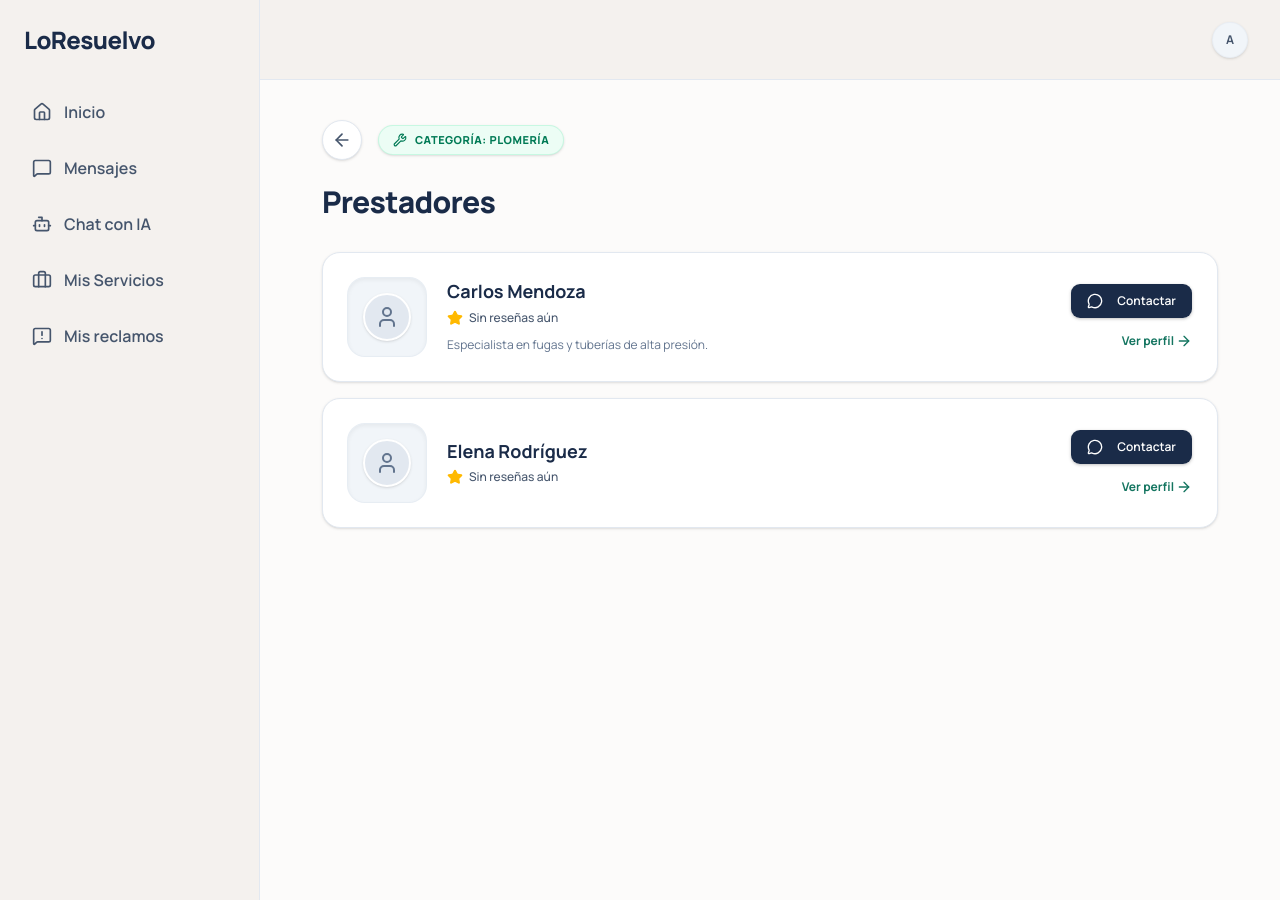
Test: SearchClient › opens the contact modal when the contact button is clicked
The image size is (1280, 900).
Step 1. Click the button "Contactar" in the row of "Carlos Mendoza" → (1132, 301), box left=1070, top=283, right=1193, bottom=319
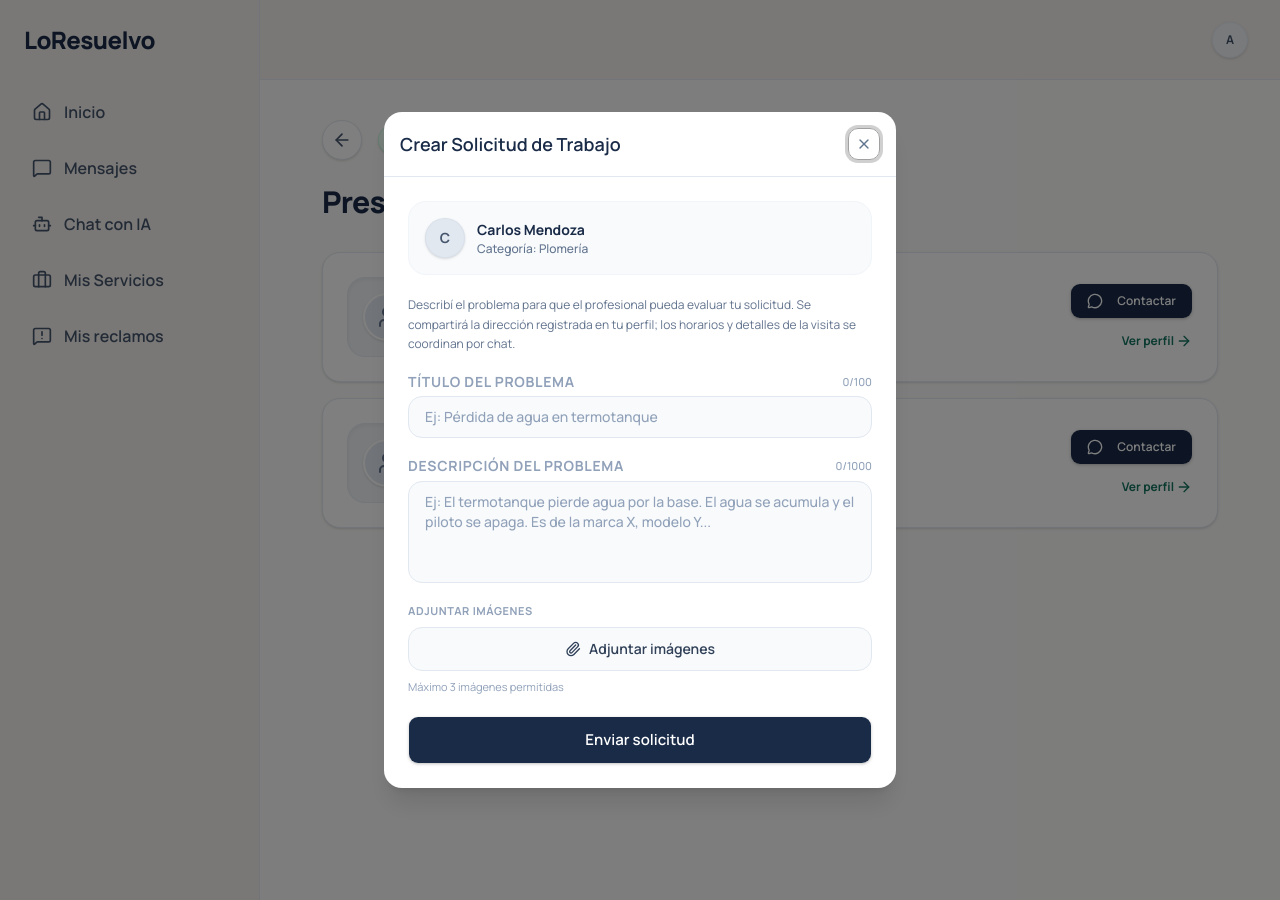
Expected: the text "Carlos Mendoza" is shown 2 times, left=447, top=279, right=586, bottom=303; left=477, top=218, right=588, bottom=240
Now the heading "Crear Solicitud de Trabajo" is shown, box left=400, top=130, right=621, bottom=158
